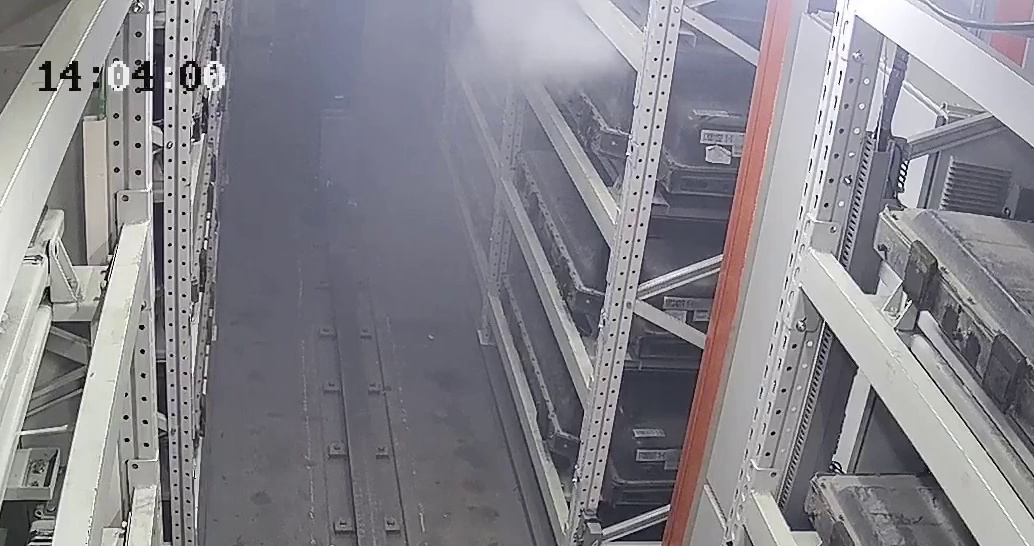smoke: (443, 9, 617, 91)
